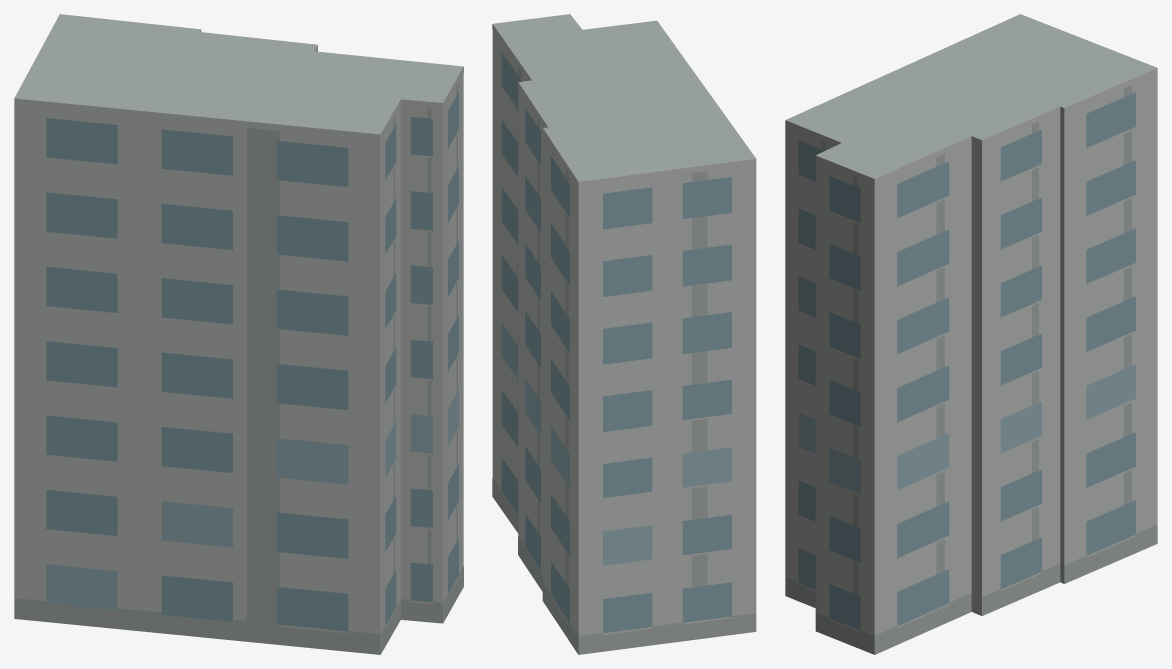
File: survey-upis-32906280.glb
3 views of the same model, side by side, from view 1: azimuth 30°, elevation 25°; view 2: azimuth 150°, elevation 25°; view 3: azimuth 270°, elevation 25° (orthographic). The views are drawn at different scales.
Visible parts, largest first — view 1: survey-upis-32906280.tmp; view 2: survey-upis-32906280.tmp; view 3: survey-upis-32906280.tmp.
Boxes of the visible parts, box(x1,y1,x2,y2) form: survey-upis-32906280.tmp: box(14, 14, 463, 654); survey-upis-32906280.tmp: box(492, 14, 756, 654); survey-upis-32906280.tmp: box(785, 14, 1157, 654).
Bounding box in the file's own units: 14.21 × 19.1 × 13.55.
